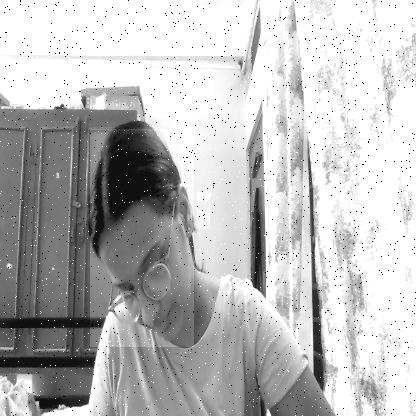Distracted: (90, 129, 194, 347)
